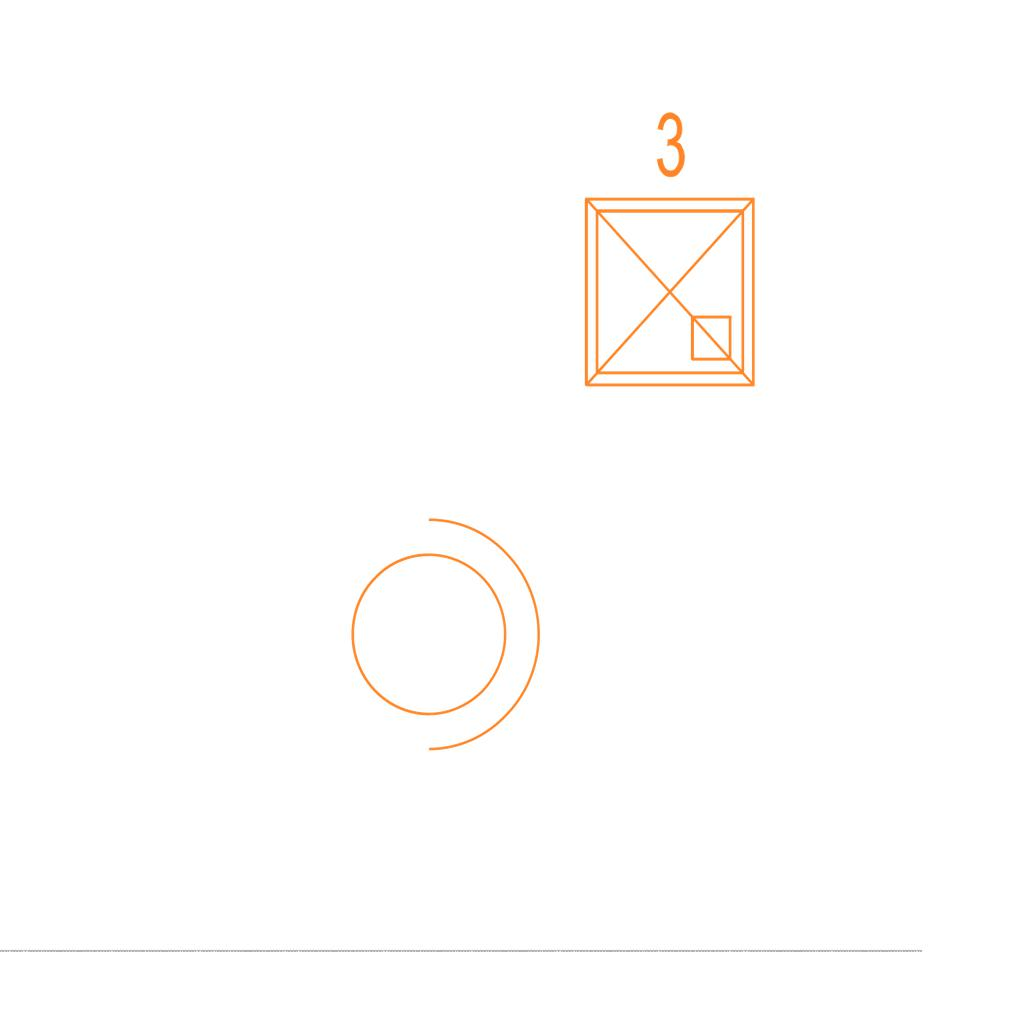Einbaudownlights_LED_Konferenzraeume: (562, 101, 770, 401)
Scheinwerfer_fuer_Alarmbeleuchtung: (326, 496, 551, 760)
